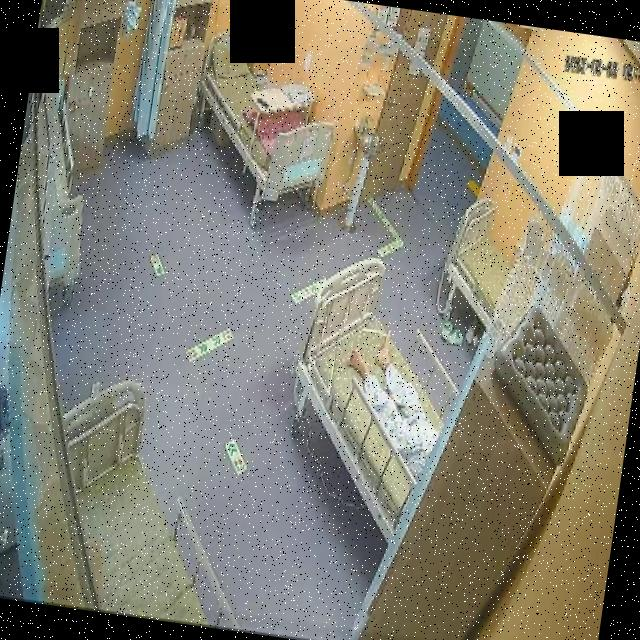bed: (36, 374, 271, 632), (273, 251, 467, 545), (180, 23, 348, 210), (439, 194, 520, 332)
lie: (334, 319, 452, 480)
patient: (334, 322, 452, 478)
